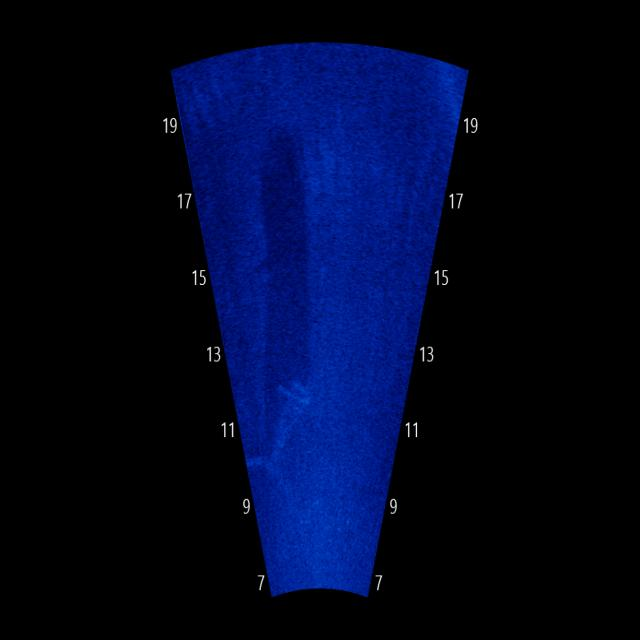circle: (249, 253, 279, 288)
triangle: (258, 365, 318, 478)
